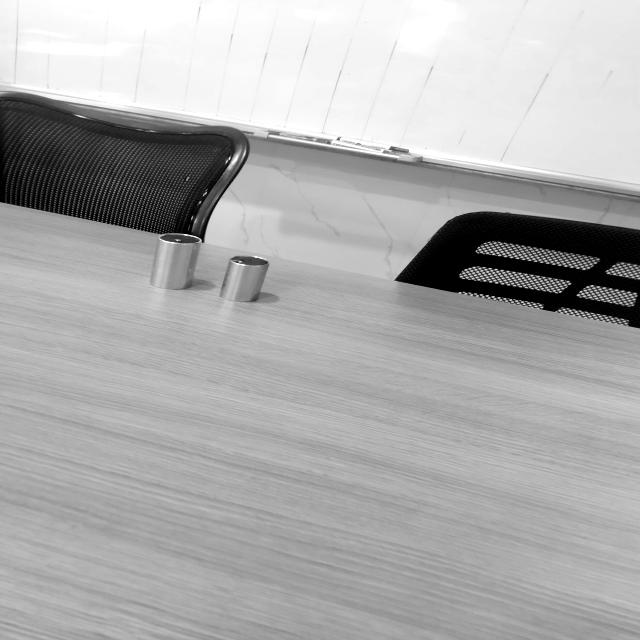Co_Lon: (147, 228, 203, 295)
Co_Nho: (218, 250, 271, 309)
